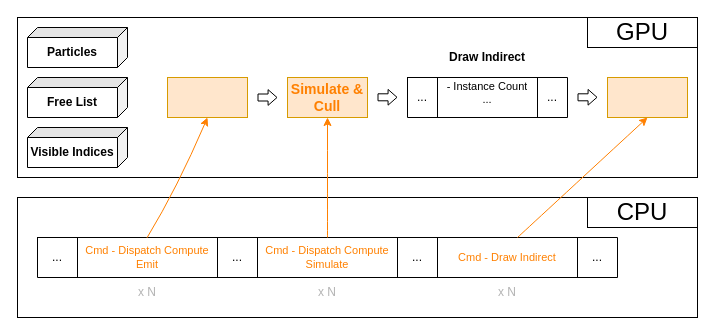
Image size: 715x335. Some labels were removed from this diagram. Here are the shapes that lost their labels. From the top down, the centre of each, then its label:
At pixel 207 97: "Emit".
At pixel 647 97: "Render".
